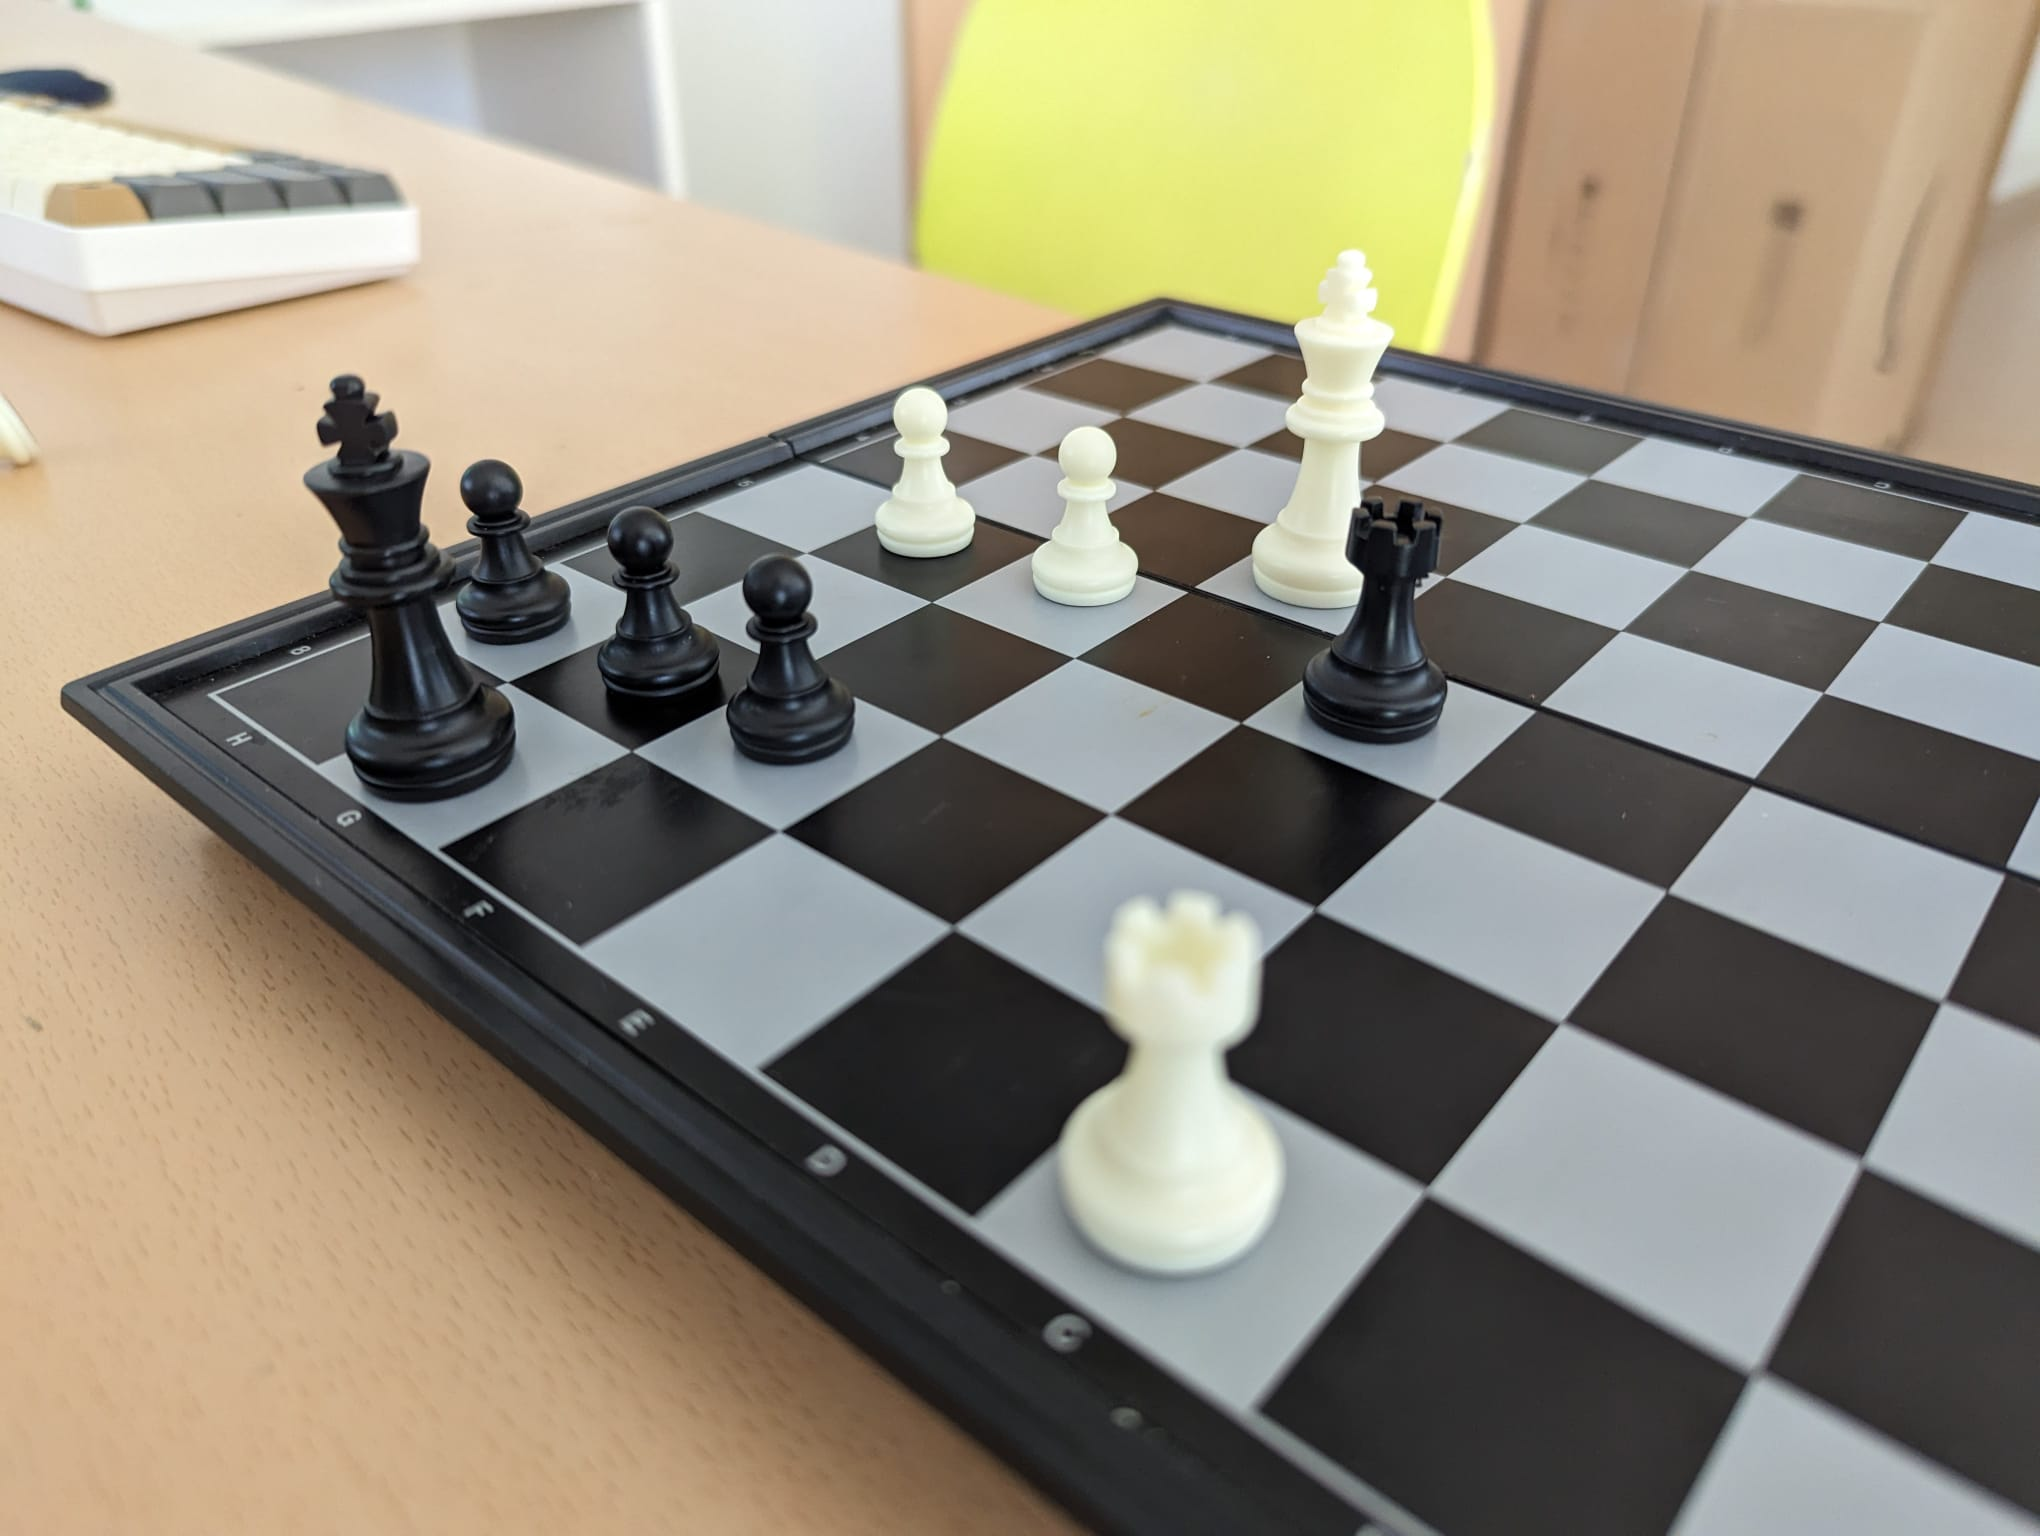BK: (287, 371, 521, 807)
BP: (721, 553, 860, 766), (592, 494, 719, 715), (450, 445, 572, 644)
BR: (1297, 492, 1447, 745)
WK: (1243, 248, 1400, 610)
WP: (1022, 423, 1145, 611), (866, 386, 985, 561)
WR: (1047, 884, 1280, 1275)
